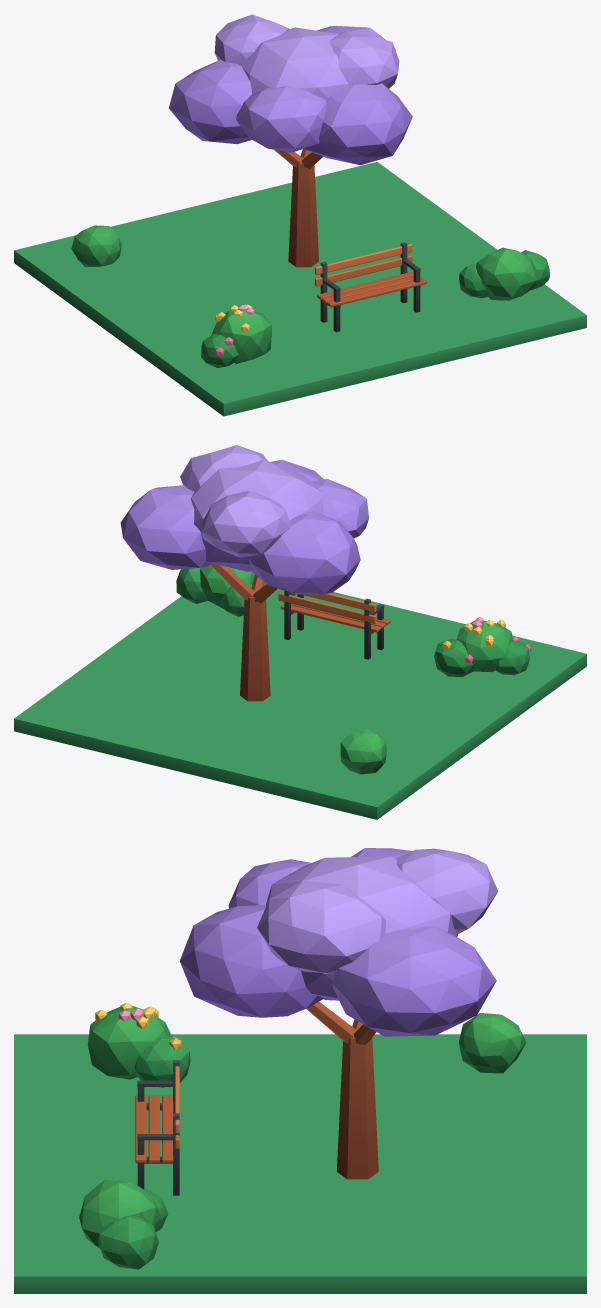
The model's file is jacaranda_banco.glb.
The picture shows the model from 3 angles, top to bottom: view 1: azimuth 30°, elevation 25°; view 2: azimuth 150°, elevation 25°; view 3: azimuth 270°, elevation 25°; orthographic projection. The views are drawn at different scales.
Parts seen in each view (by area): view 1: jacaranda_banco; view 2: jacaranda_banco; view 3: jacaranda_banco.
Part boxes in pixels (bbox=[...]): jacaranda_banco: bbox=[14, 14, 586, 416]; jacaranda_banco: bbox=[14, 445, 586, 819]; jacaranda_banco: bbox=[14, 848, 586, 1293].
Bounding box in the file's own units: 6.03 × 3.75 × 6.
1 material, 1 textured.
